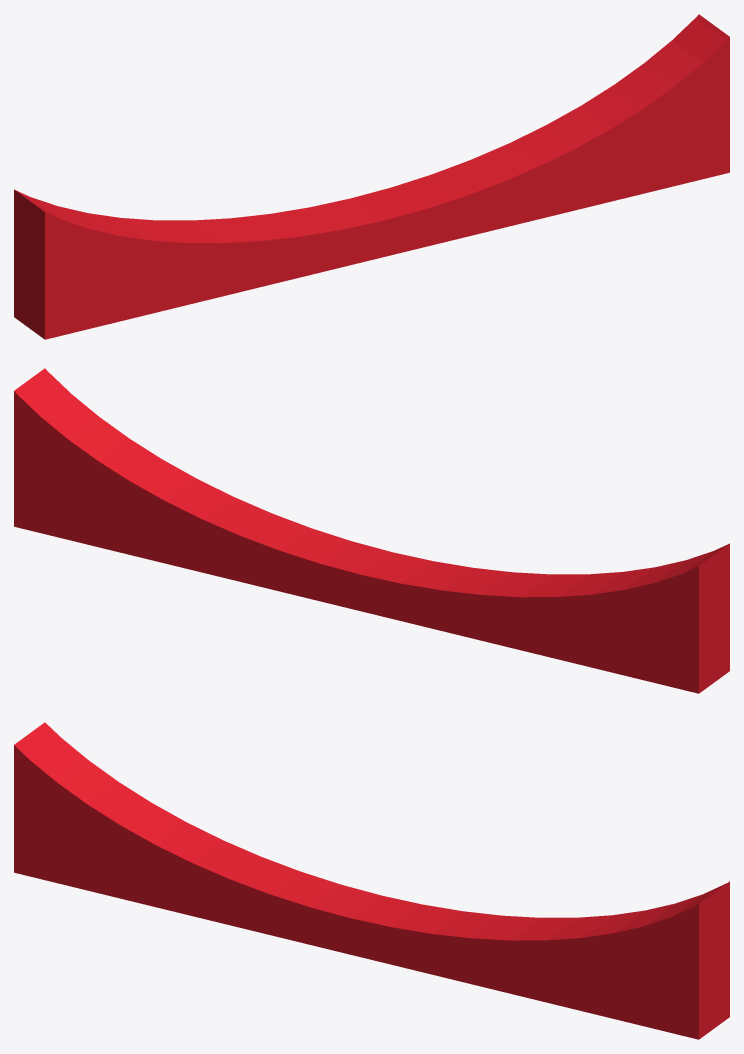
The model's file is borde1.obj.
3 renders of one model, top to bottom at view 1: azimuth 30°, elevation 25°; view 2: azimuth 150°, elevation 25°; view 3: azimuth 330°, elevation 25°, orthographic.
Parts seen in each view (by area): view 1: obj_0; view 2: obj_0; view 3: obj_0.
Part boxes in pixels (x1,y1,x2,y2): obj_0: (14, 14, 729, 339); obj_0: (14, 368, 729, 693); obj_0: (14, 722, 729, 1039).
Bounding box in the file's own units: 255 × 48.31 × 20.
